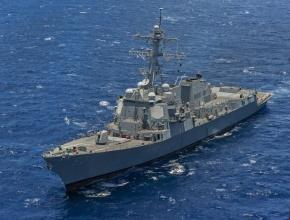warship: (41, 21, 273, 186)
